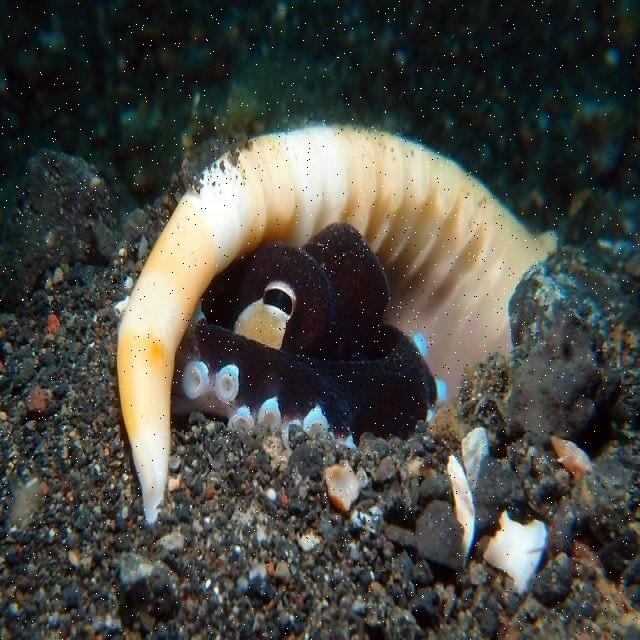reefs: (116, 123, 558, 523), (170, 222, 448, 448)
